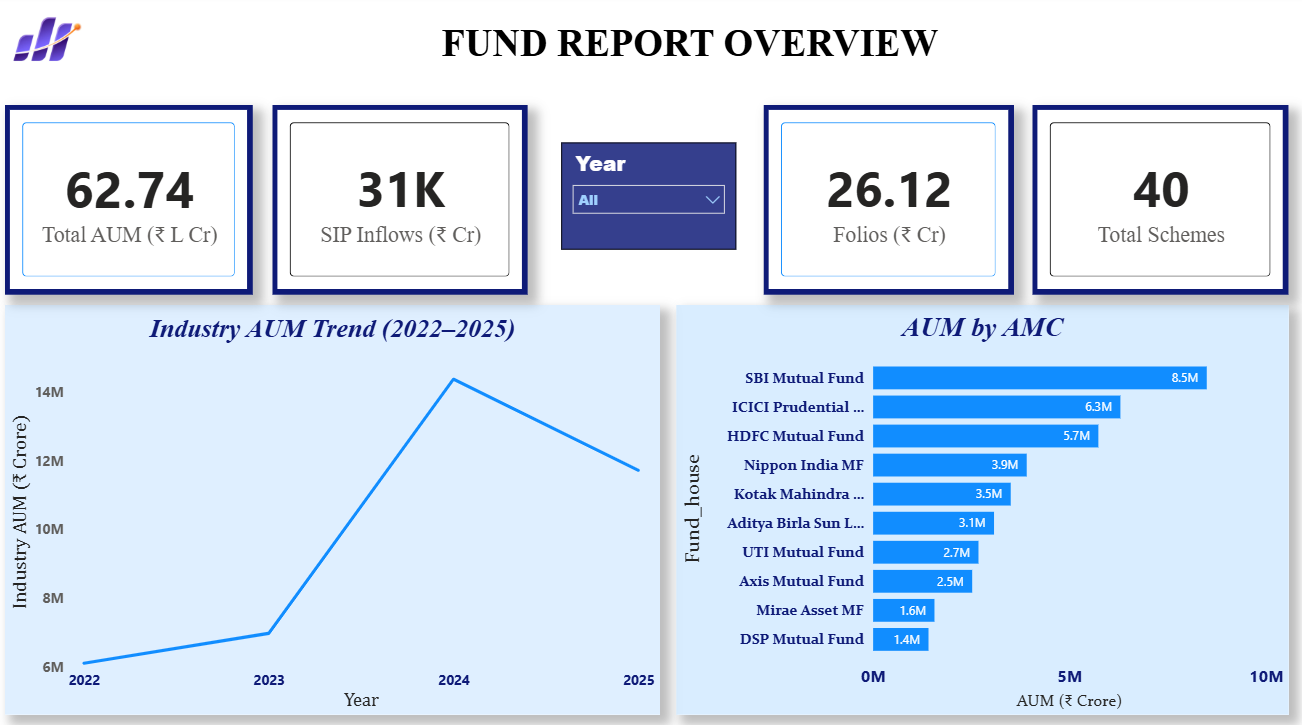

What the dashboard file says about the page in this screenshot:
{"tool":"powerbi","page":{"name":"Industry overview","canvas":[1280,720],"ordinal":0},"visuals":[{"type":"cardVisual","fields":{"Data":["01_fund_master_clean.Total AUM (L Cr)"]},"box":[9.8,107.6,242.1,185.9],"z":0},{"type":"cardVisual","fields":{"Data":["01_fund_master_clean.SIP Inflows"]},"box":[271.5,107.6,249.5,185.9],"z":1000},{"type":"cardVisual","fields":{"Data":["01_fund_master_clean.Folios"]},"box":[752,107.6,244.6,185.9],"z":2000},{"type":"cardVisual","fields":{"Data":["01_fund_master_clean.Total Schemes"]},"box":[1015,107.6,250.7,185.9],"z":3000},{"type":"lineChart","title":"Industry AUM Trend (2022–2025)","fields":{"Category":["Calendar.Year"],"Y":["Sum(03_aum_by_fund_house_clean.aum_crore)"]},"box":[9.8,303.3,640.8,401.1],"z":4000},{"type":"clusteredBarChart","title":"AUM by AMC","fields":{"Category":["03_aum_by_fund_house_clean.fund_house"],"Y":["Sum(03_aum_by_fund_house_clean.aum_crore)"]},"box":[666.4,303.3,599.2,401.1],"z":5000},{"type":"image","box":[0,0,101.5,86.8],"z":6000},{"type":"textbox","box":[385.2,20.8,589.4,66],"z":7000},{"type":"slicer","fields":{"Values":["Calendar.Year"]},"box":[553.9,144.3,171.2,105.2],"z":8000}]}

Visuals, with their boxes in screenshot pixels (x1, y1, x2, y2), scaled from the page's 1280x720 canvas onto the 1302x725 screenshot:
cardVisual - 01_fund_master_clean.Total AUM (L Cr): <bbox>10, 108, 256, 296</bbox>
cardVisual - 01_fund_master_clean.SIP Inflows: <bbox>276, 108, 530, 296</bbox>
cardVisual - 01_fund_master_clean.Folios: <bbox>765, 108, 1014, 296</bbox>
cardVisual - 01_fund_master_clean.Total Schemes: <bbox>1032, 108, 1287, 296</bbox>
"Industry AUM Trend (2022–2025)" lineChart: <bbox>10, 305, 662, 709</bbox>
"AUM by AMC" clusteredBarChart: <bbox>678, 305, 1287, 709</bbox>
image: <bbox>0, 0, 103, 87</bbox>
textbox: <bbox>392, 21, 991, 87</bbox>
slicer - Calendar.Year: <bbox>563, 145, 738, 251</bbox>
